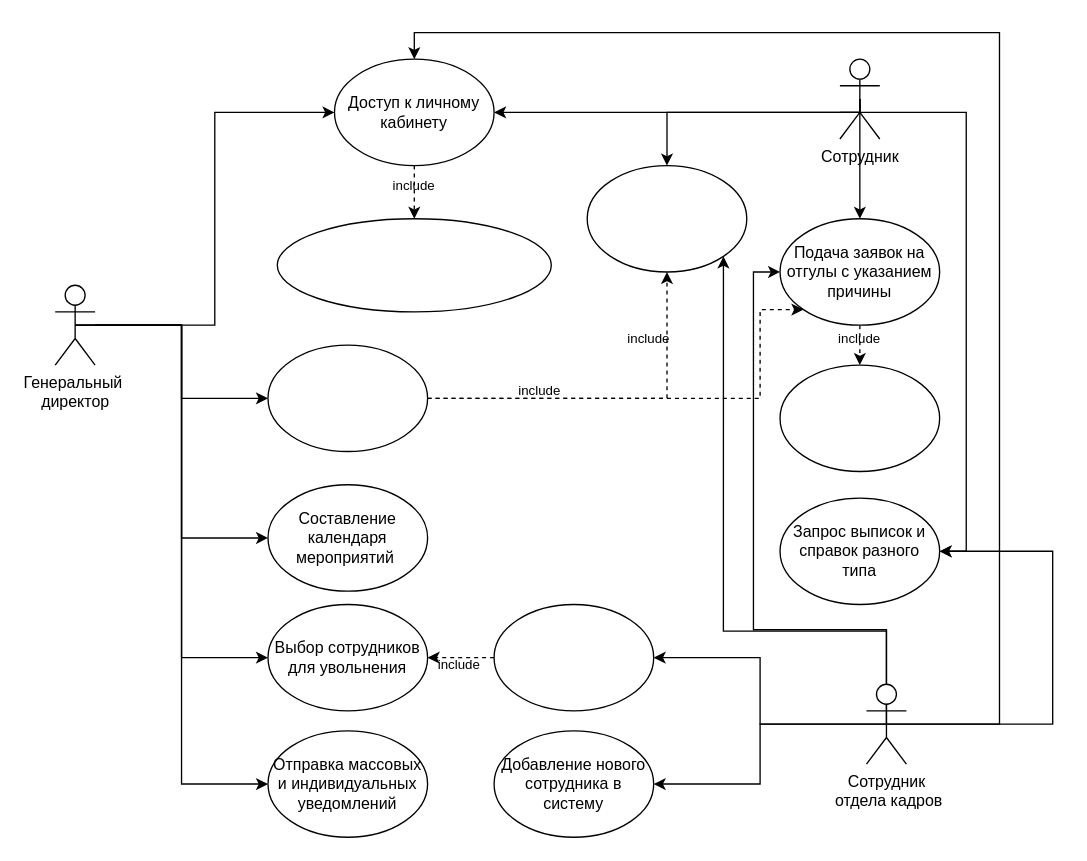
This 1087x861 diagram has some shape labels left out. Here are the shapes that lost their labels. From the top down, the centre of each, then its label:
At (x=666, y=218): "Выбор и подача заявок на отпуск".
At (x=413, y=264): "Возможность вносить изменения с ограничениями прав".
At (x=347, y=398): "Рассмотрение заявки (одобрение или отклонение)".
At (x=859, y=417): "Просмотр статуса".
At (x=573, y=657): "Удаление сотрудника из системы".
